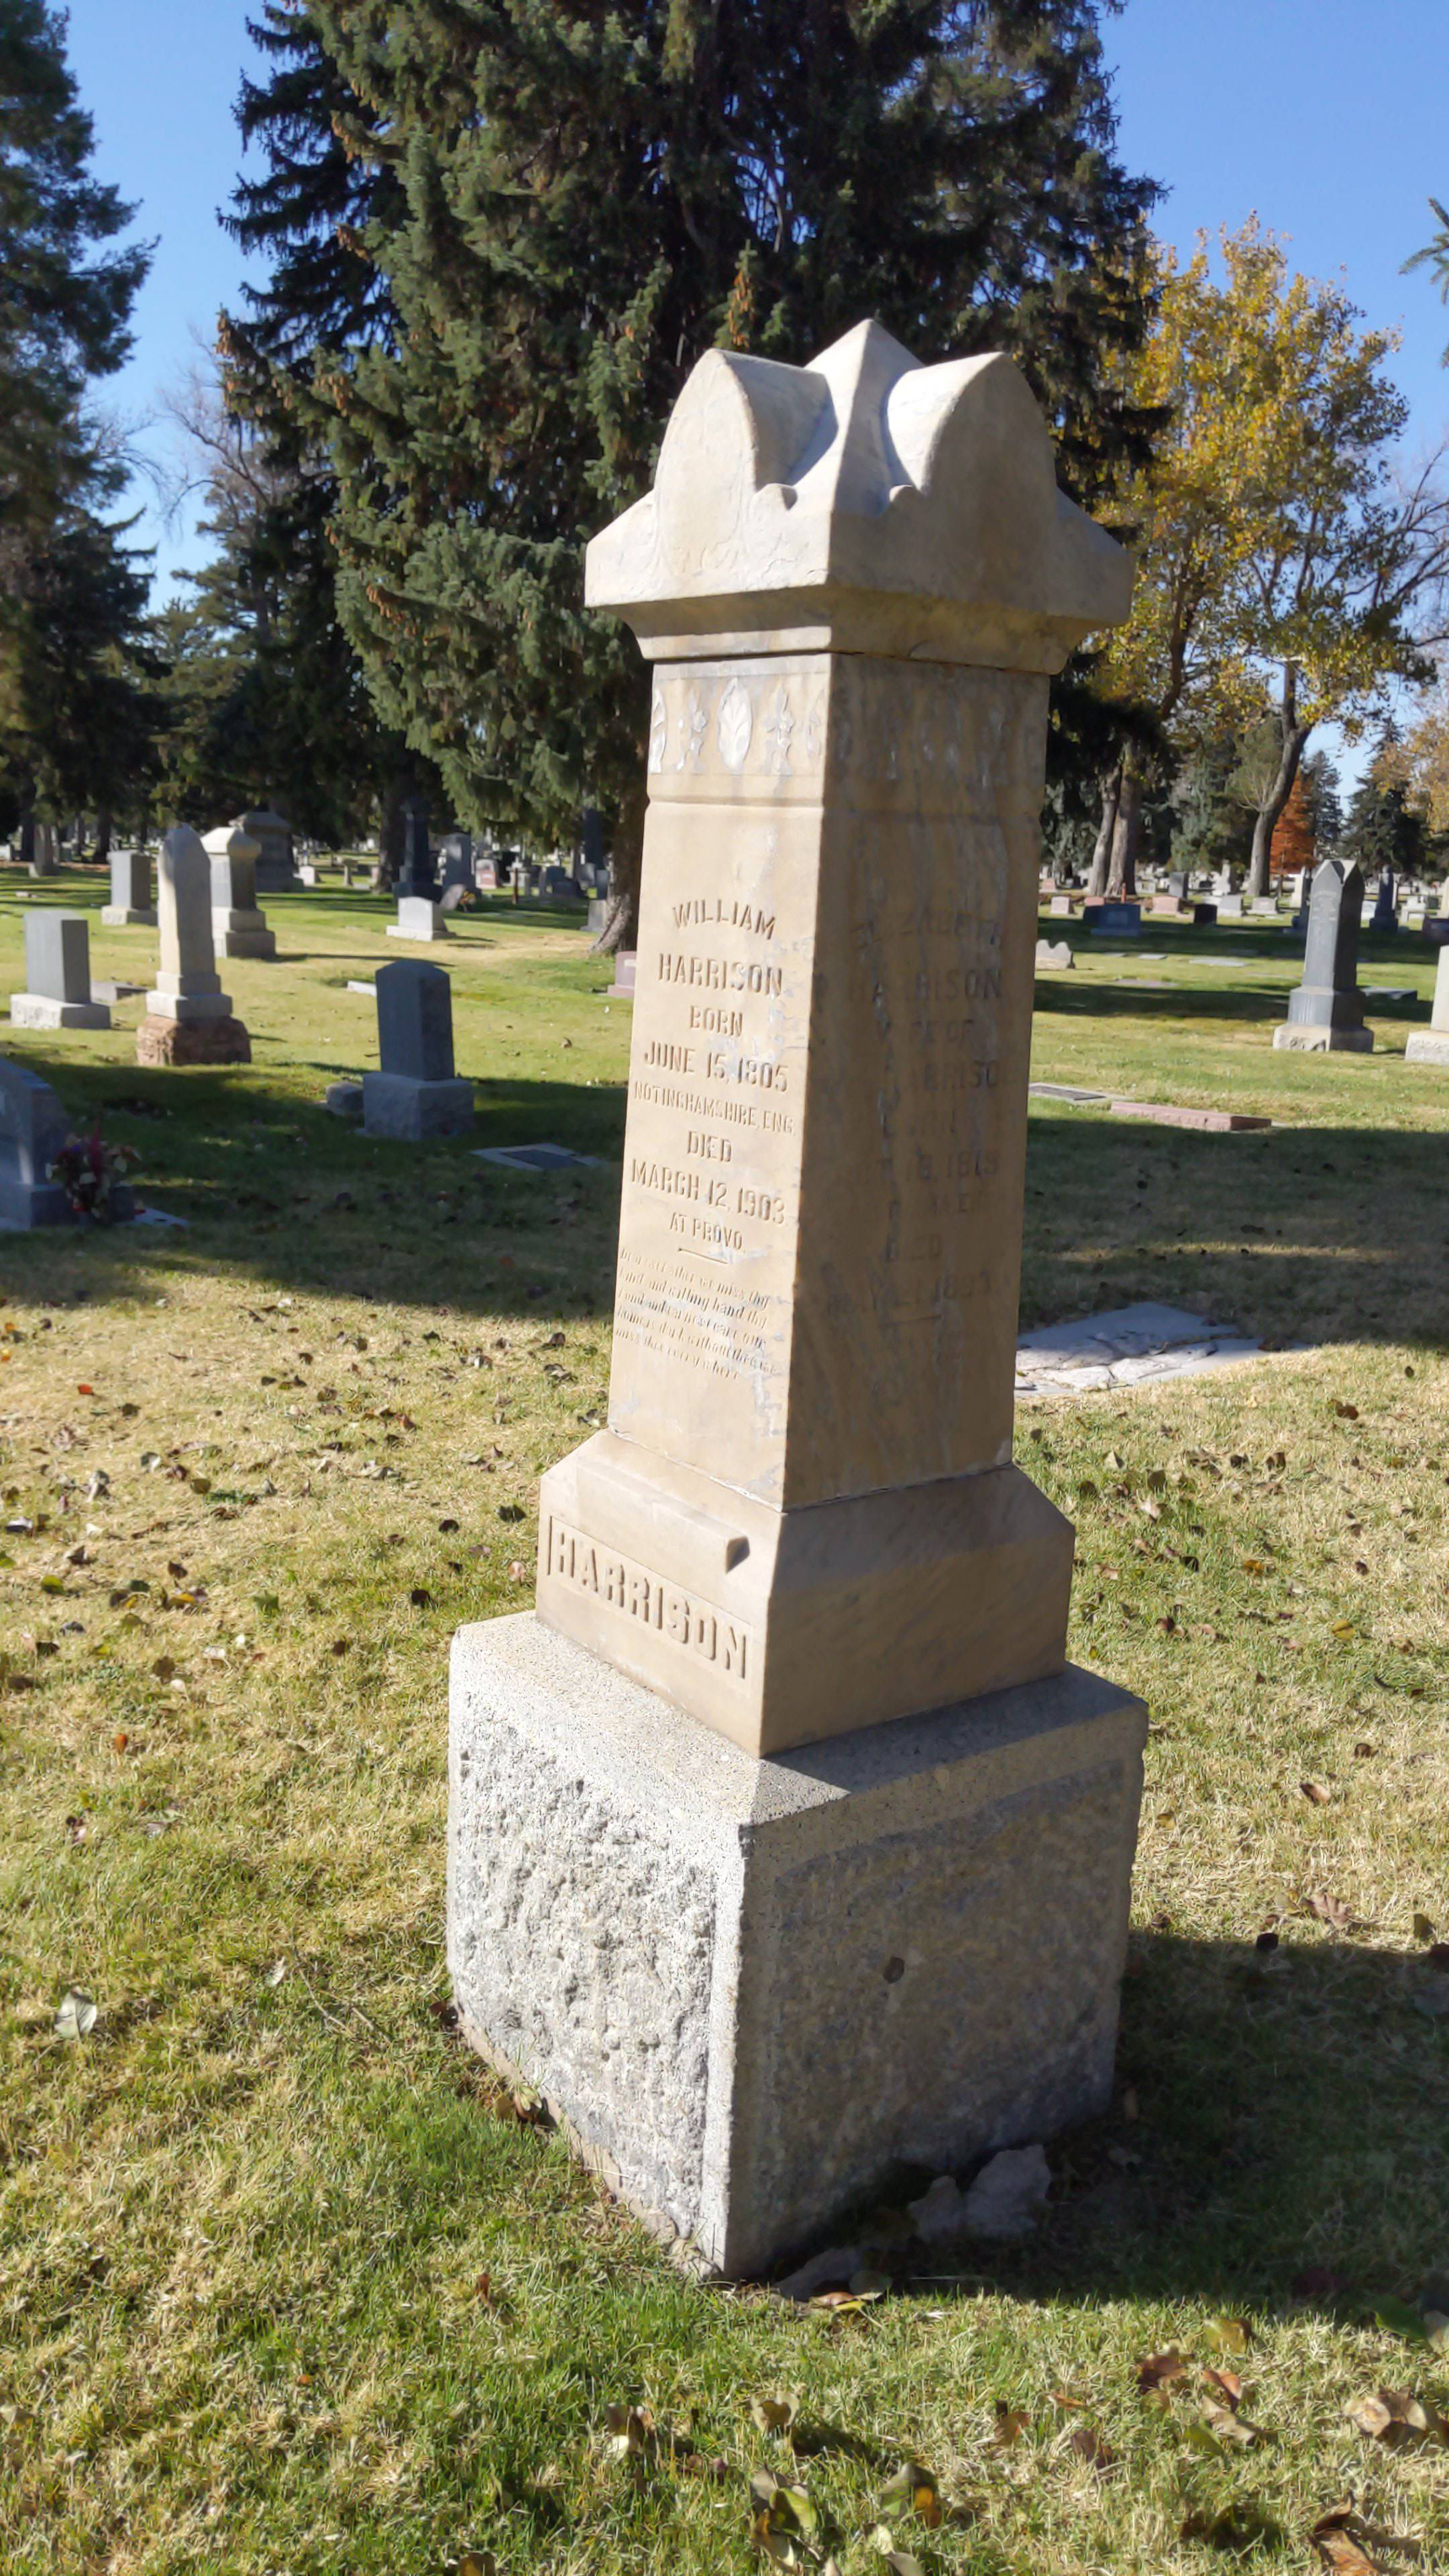obelisk: (529, 311, 1131, 1760)
